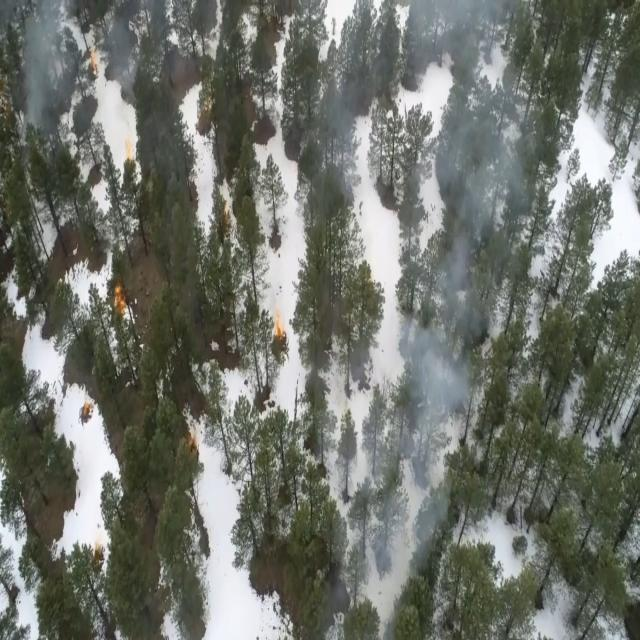Fire: (110, 282, 128, 322), (271, 310, 288, 348), (86, 39, 100, 85), (187, 428, 206, 458), (79, 390, 92, 427), (90, 540, 106, 564), (124, 135, 132, 173)
Smoke: (318, 0, 537, 624)
